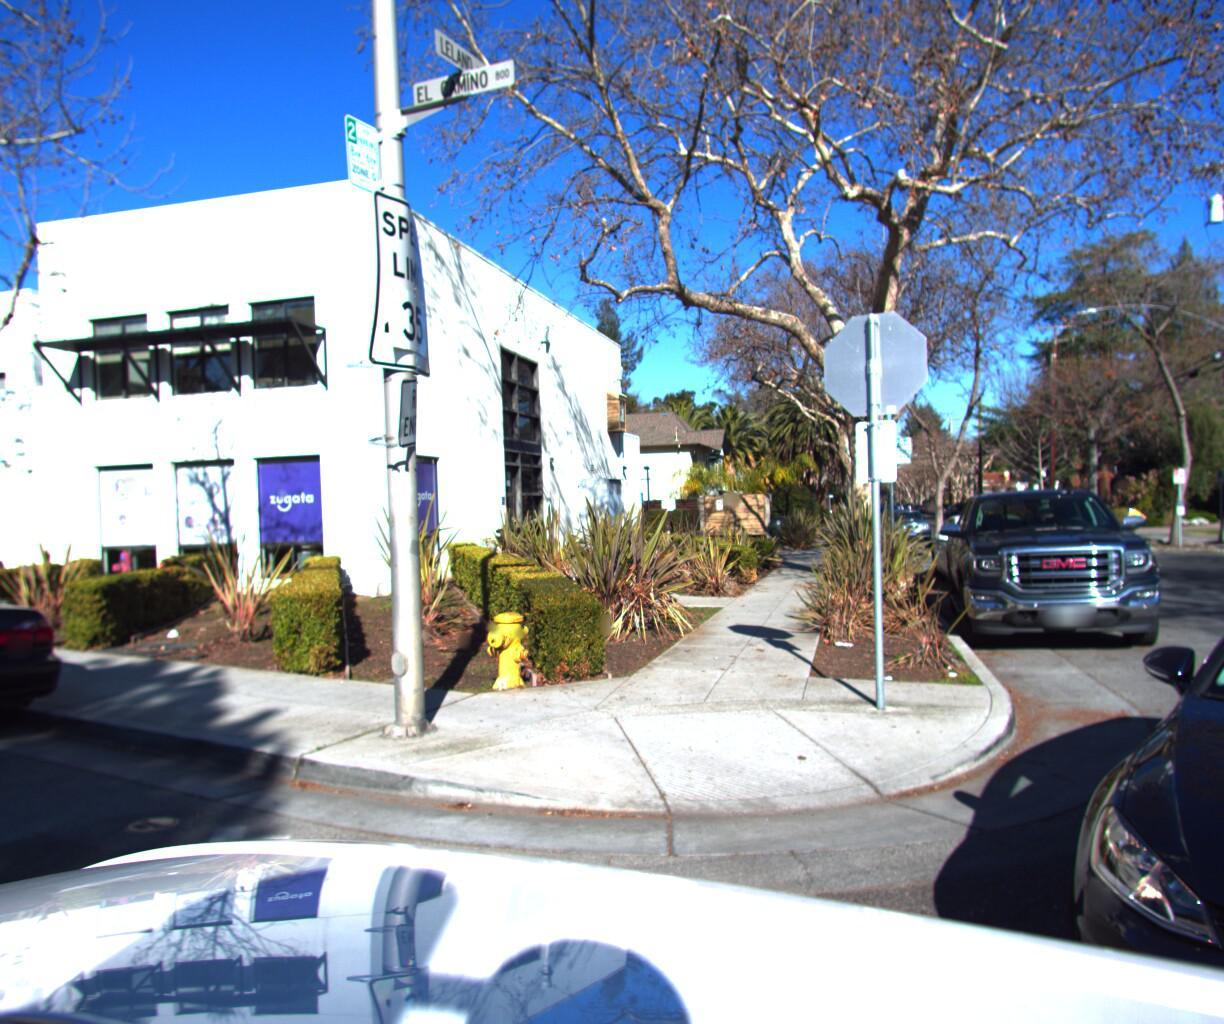car: (940, 481, 1224, 1024), (936, 469, 1189, 660), (0, 530, 93, 794), (922, 499, 1075, 592), (879, 501, 937, 539)
